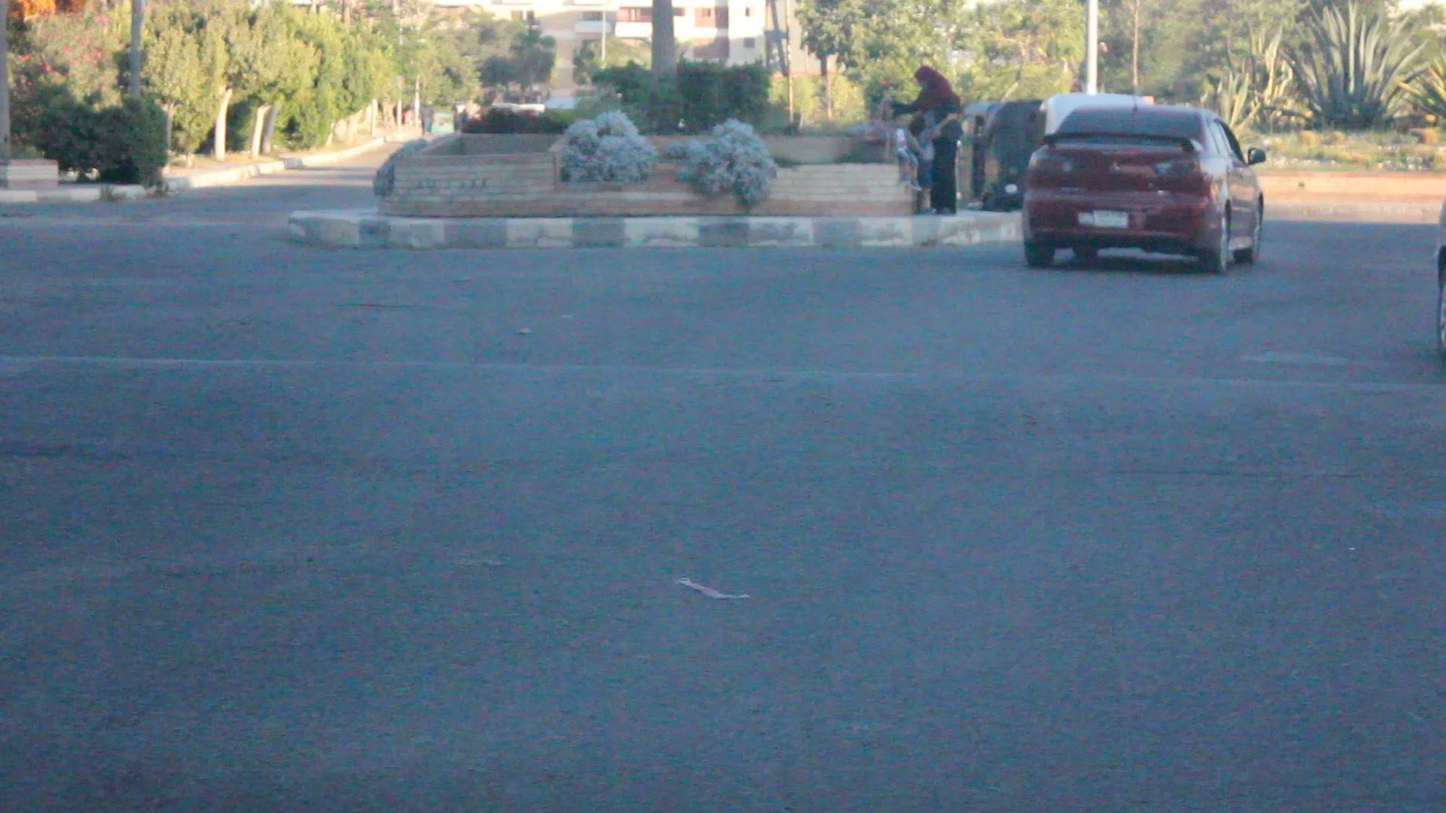Bump: (0, 352, 1446, 478)
